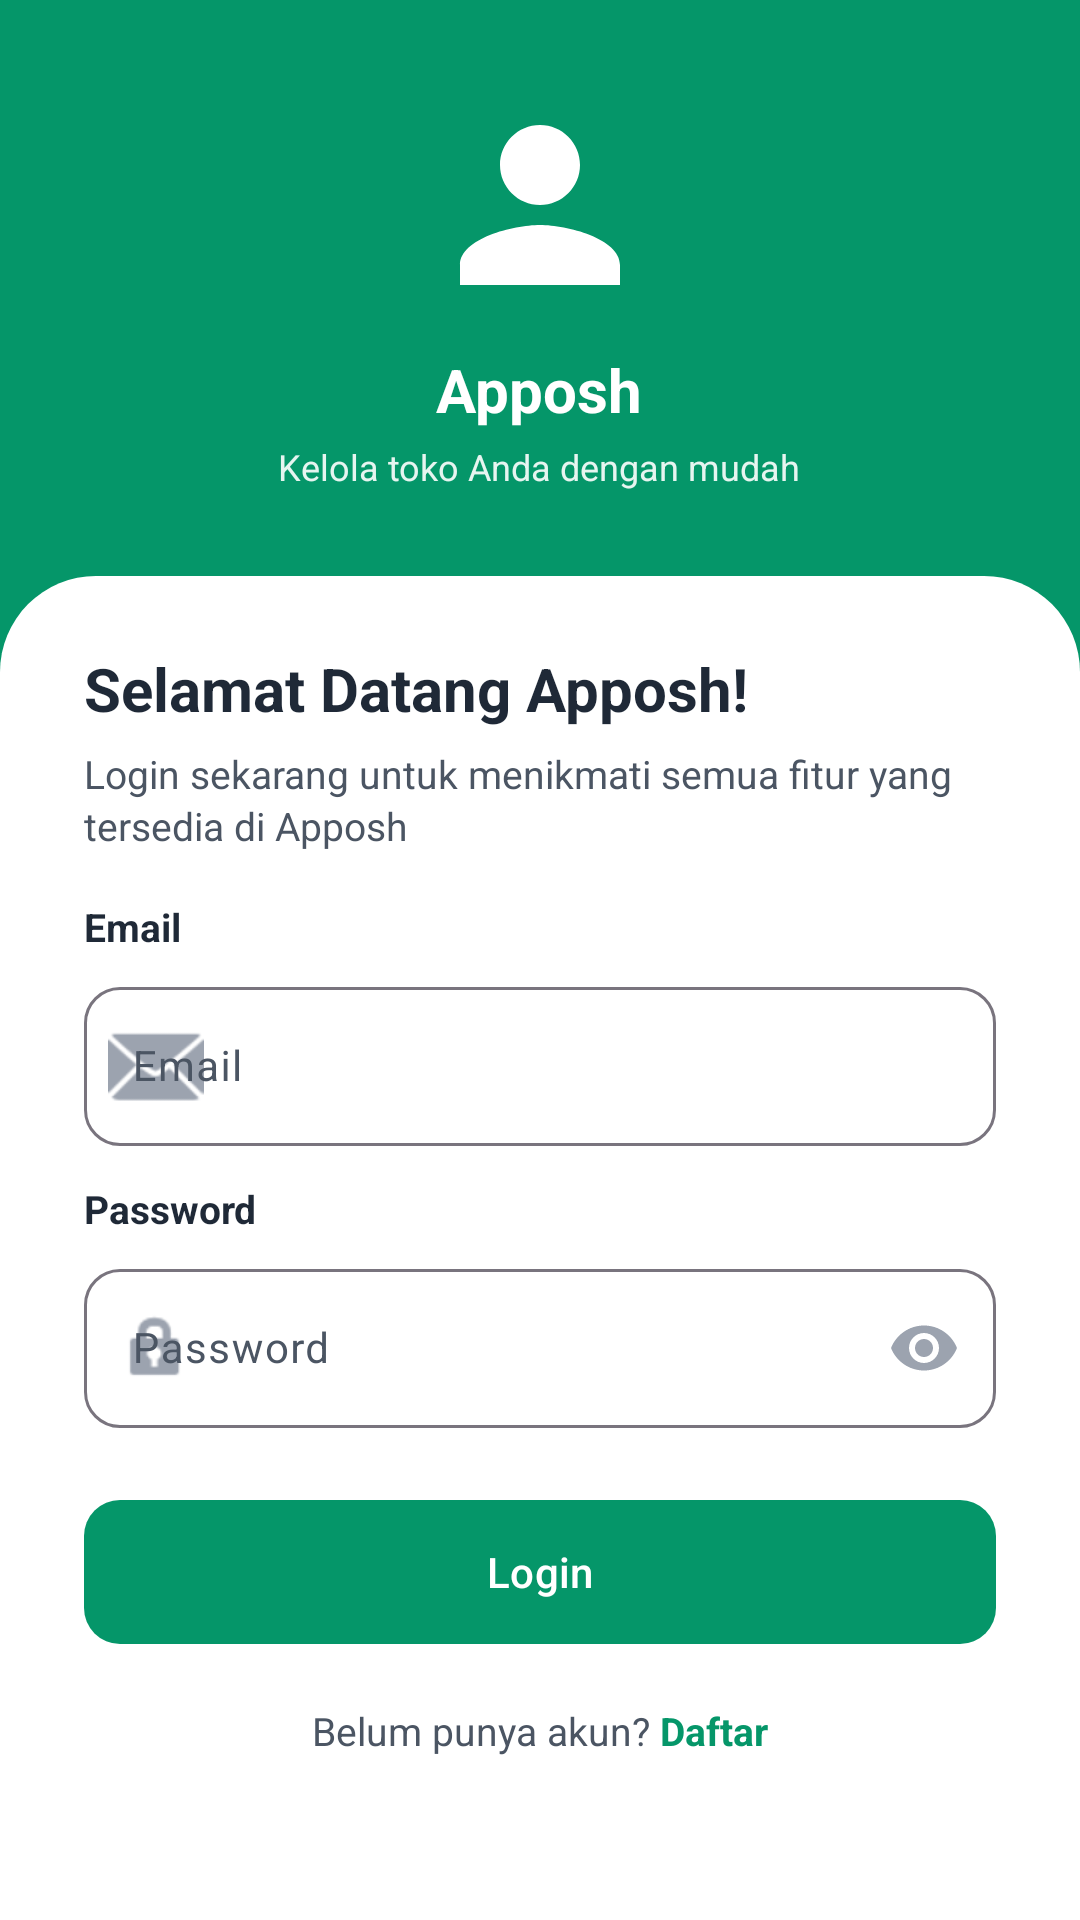

Where to tap for icons on this 1080px×1920px app screen, as point (x, y):
auth hero: point (540, 205)
